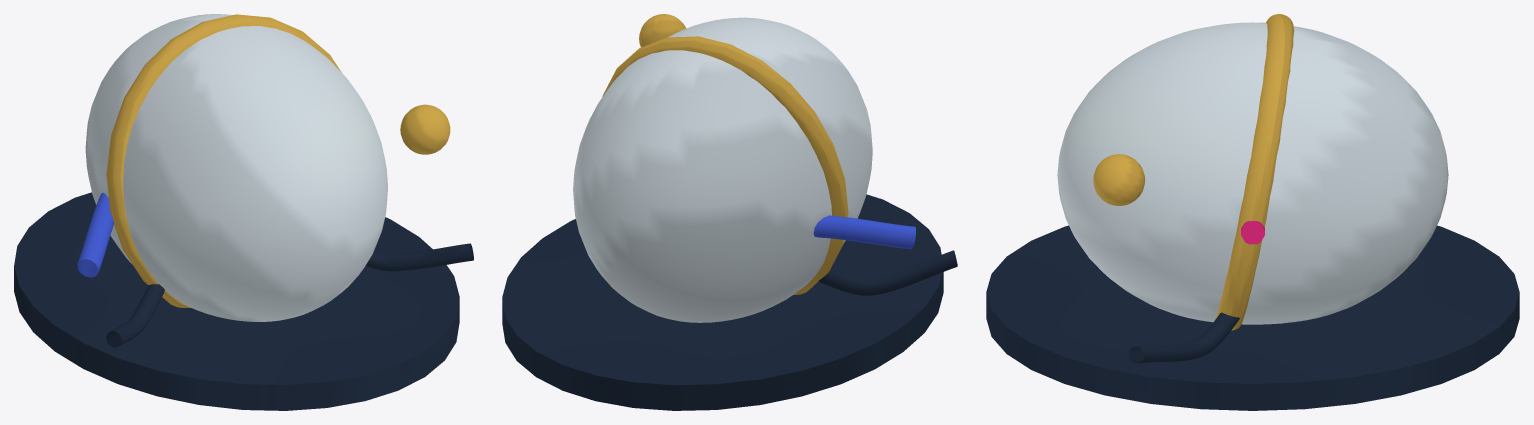
The model's file is 0409_微生物图鉴_喇叭虫.glb.
3 renders of one model, left to right at view 1: azimuth 30°, elevation 25°; view 2: azimuth 150°, elevation 25°; view 3: azimuth 270°, elevation 25°, orthographic. The views are drawn at different scales.
Visible parts, largest first — view 1: card_0409; view 2: card_0409; view 3: card_0409.
Part boxes in pixels (x1,y1,x2,y2): card_0409: [14, 14, 473, 410]; card_0409: [502, 14, 957, 410]; card_0409: [986, 14, 1519, 410].
Size of the model in its own units: 1.37 by 1 by 1.66.
